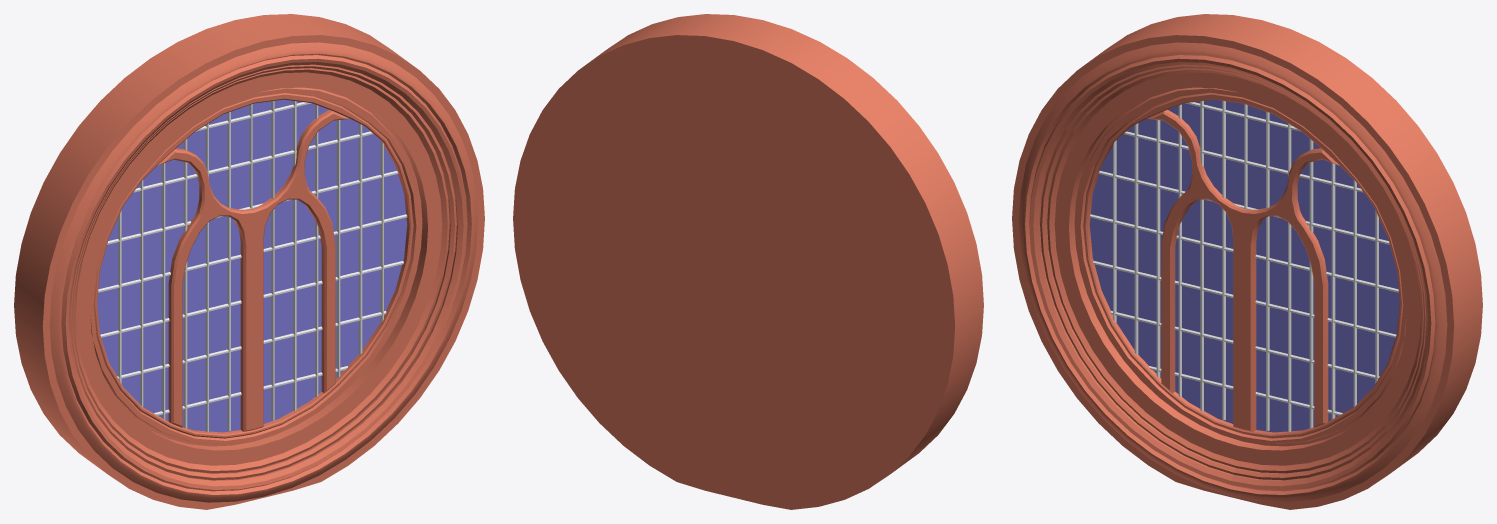
File: SP_House10_Window04.fbx
3 views of the same model, side by side, from view 1: azimuth 30°, elevation 25°; view 2: azimuth 150°, elevation 25°; view 3: azimuth 330°, elevation 25° (orthographic).
Parts seen in each view (by area): view 1: SP_House10_Window04; view 2: SP_House10_Window04; view 3: SP_House10_Window04.
Part boxes in pixels (bbox=[...]): SP_House10_Window04: bbox=[14, 14, 484, 509]; SP_House10_Window04: bbox=[513, 14, 983, 509]; SP_House10_Window04: bbox=[1012, 14, 1482, 509].
Size of the model in its own units: 9.72 by 9.59 by 1.19.
